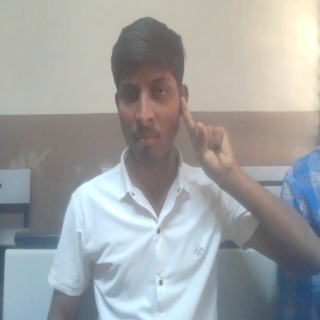Deaf: (179, 94, 241, 186)
Face: (108, 15, 190, 167)
